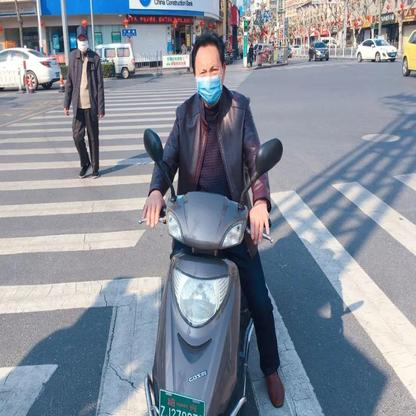target: (139, 32, 287, 411)
